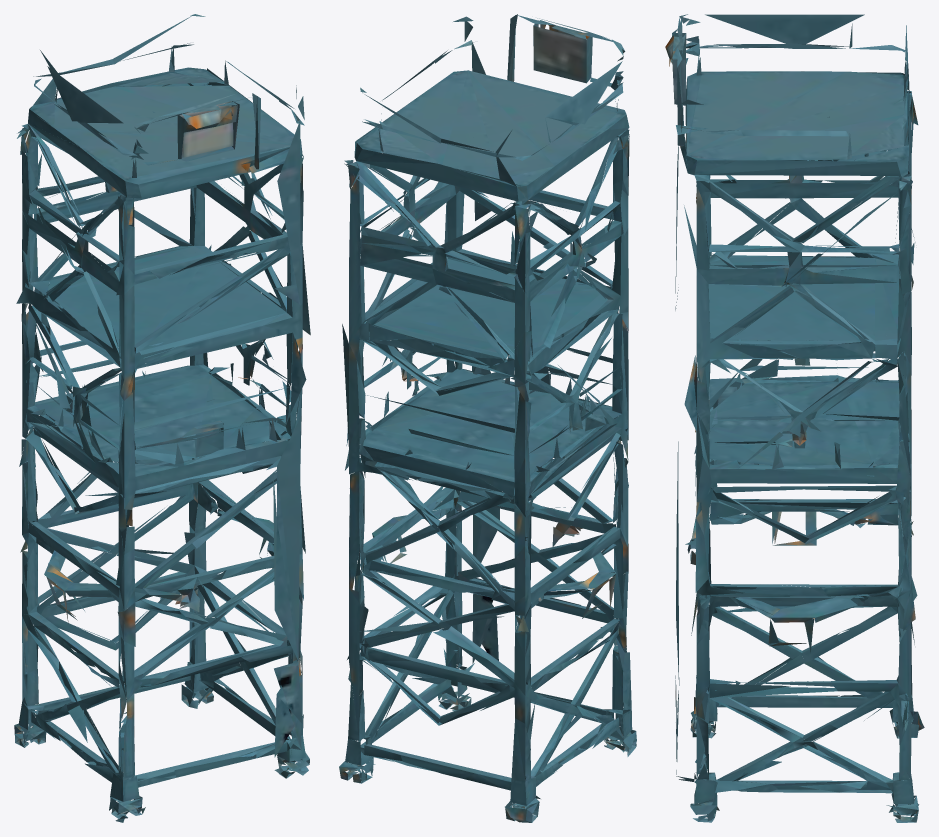
File: gantry_v2.glb
3 renders of one model, left to right at view 1: azimuth 30°, elevation 25°; view 2: azimuth 150°, elevation 25°; view 3: azimuth 270°, elevation 25°, orthographic. The views are drawn at different scales.
Visible parts, largest first — view 1: output_unwrapped; view 2: output_unwrapped; view 3: output_unwrapped.
Boxes of the visible parts, x1,y1,x2,y2 form: output_unwrapped: (14,14,310,822); output_unwrapped: (339,14,636,822); output_unwrapped: (665,14,924,822).
Bounding box in the file's own units: 0.6408 × 1.92 × 0.613.
Materials: 1 (1 with a texture image).
